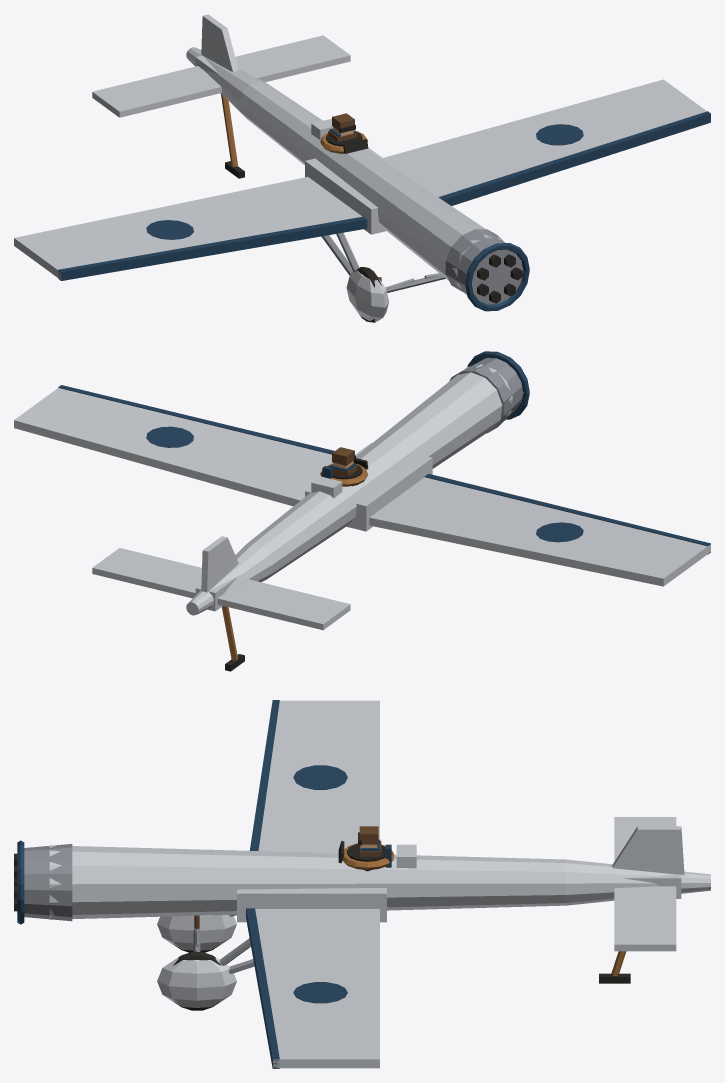
File: body.glb
The picture shows the model from 3 angles, top to bottom: view 1: azimuth 30°, elevation 25°; view 2: azimuth 150°, elevation 25°; view 3: azimuth 270°, elevation 25°; orthographic projection. The views are drawn at different scales.
Visible parts, largest first — view 1: wing_0, fuselage, wing_0_leading_edge, horizontal_stabilizer, engine_cowl, wing_root_fairing, wheel_spat, vertical_fin, cowl_ring, tail_cone, roundel_0_r, roundel_0_l (+1 smaller); view 2: wing_0, fuselage, horizontal_stabilizer, wing_0_leading_edge, wing_root_fairing, tail_cone, engine_cowl, vertical_fin, roundel_0_r, cowl_ring, roundel_0_l; view 3: wing_0, fuselage, wheel_spat (×2), horizontal_stabilizer, engine_cowl, wing_root_fairing, tail_cone, wing_0_leading_edge, vertical_fin, roundel_0_l, roundel_0_r, cowl_ring.
Boxes of the visible parts, <box> form: wing_0: <box>14,79,706,279</box>; fuselage: <box>239,81,504,295</box>; wing_0_leading_edge: <box>58,111,710,280</box>; horizontal_stabilizer: <box>92,35,350,117</box>; engine_cowl: <box>445,229,522,304</box>; wing_root_fairing: <box>305,147,414,234</box>; wheel_spat: <box>346,268,388,321</box>; vertical_fin: <box>201,14,238,72</box>; cowl_ring: <box>465,243,529,311</box>; tail_cone: <box>186,47,266,114</box>; roundel_0_r: <box>536,124,583,145</box>; roundel_0_l: <box>146,220,193,239</box>; wing_0: <box>14,388,710,586</box>; fuselage: <box>246,364,512,578</box>; horizontal_stabilizer: <box>92,548,350,630</box>; wing_0_leading_edge: <box>58,385,710,554</box>; wing_root_fairing: <box>305,443,432,531</box>; tail_cone: <box>186,543,273,615</box>; engine_cowl: <box>449,358,522,433</box>; vertical_fin: <box>201,536,238,592</box>; roundel_0_r: <box>146,426,193,447</box>; cowl_ring: <box>467,351,529,419</box>; roundel_0_l: <box>536,522,583,542</box>; wing_0: <box>255,700,379,1068</box>; fuselage: <box>49,845,566,919</box>; wheel_spat (×2): <box>157,915,236,1007</box>; horizontal_stabilizer: <box>614,817,676,951</box>; engine_cowl: <box>24,844,72,921</box>; wing_root_fairing: <box>237,888,386,922</box>; tail_cone: <box>566,859,710,905</box>; wing_0_leading_edge: <box>246,700,279,1068</box>; vertical_fin: <box>612,826,684,874</box>; roundel_0_l: <box>293,765,347,789</box>; roundel_0_r: <box>293,982,347,1003</box>; cowl_ring: <box>17,840,24,924</box>.
Bounding box in the file's own units: 11.19 × 2.25 × 9.19.
